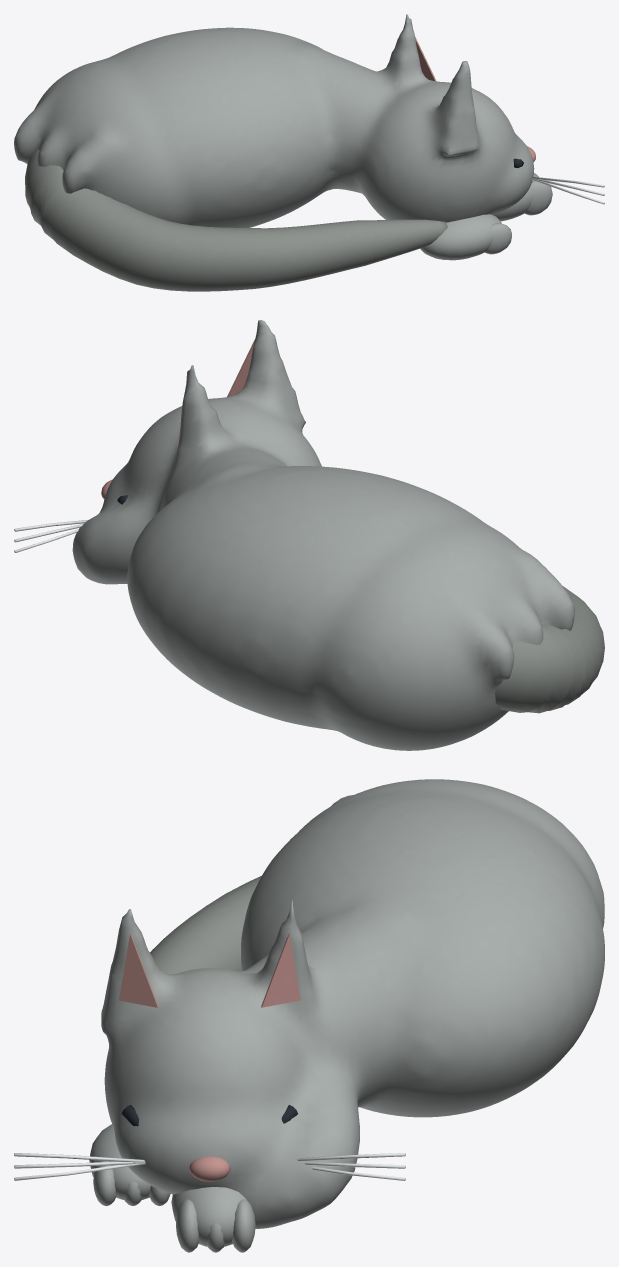
File: resting-tabby.glb
3 views of the same model, one above another, from view 1: azimuth 30°, elevation 25°; view 2: azimuth 150°, elevation 25°; view 3: azimuth 270°, elevation 25° (orthographic). The views are drawn at different scales.
Visible parts, largest first — view 1: Continuous anatomical skin, Separate volumetric wraparound tail, Rounded paw.001, Toe, Toe.003, Rounded paw; view 2: Continuous anatomical skin, Separate volumetric wraparound tail; view 3: Continuous anatomical skin, Separate volumetric wraparound tail, Rounded paw, Rounded paw.001, Pink inner pinna fitted to skin.001, Pink inner pinna fitted to skin, Toe, Toe.002, Pink cat nose, Toe.003.
Boxes of the visible parts, x1,y1,x2,y2 form: Continuous anatomical skin: (14,14,534,227); Separate volumetric wraparound tail: (25,149,447,291); Rounded paw.001: (420,214,501,260); Toe: (524,181,552,215); Toe.003: (484,223,511,254); Rounded paw: (493,173,538,221); Continuous anatomical skin: (72,320,574,750); Separate volumetric wraparound tail: (495,586,604,713); Continuous anatomical skin: (101,779,604,1228); Separate volumetric wraparound tail: (150,876,261,974); Rounded paw: (171,1187,246,1246); Rounded paw.001: (89,1124,150,1199); Pink inner pinna fitted to skin.001: (261,933,300,1007); Pink inner pinna fitted to skin: (119,934,158,1007); Toe: (176,1199,199,1252); Toe.002: (232,1199,255,1252); Pink cat nose: (189,1156,230,1181); Toe.003: (93,1160,116,1206).
Size of the model in its own units: 0.4211 by 0.18 by 0.3326.
Materials: 5 (5 with a texture image).
